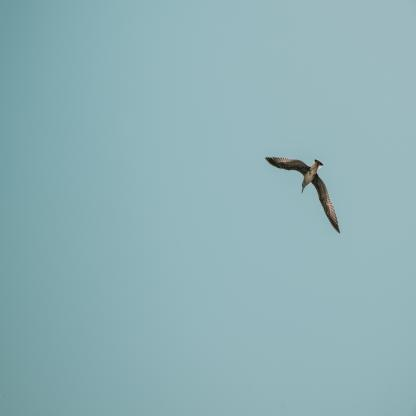bird: (265, 156, 340, 234)
